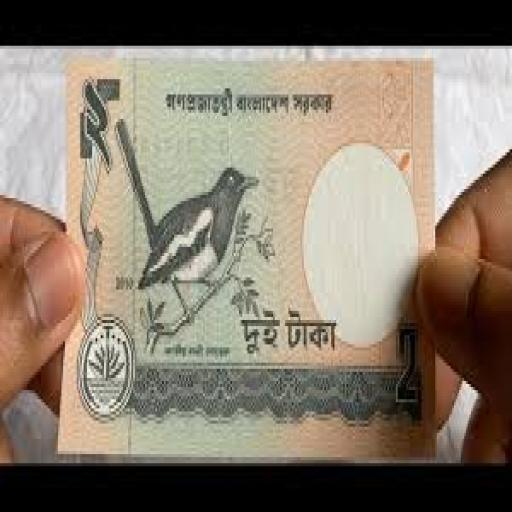2taka: (58, 55, 433, 460)
